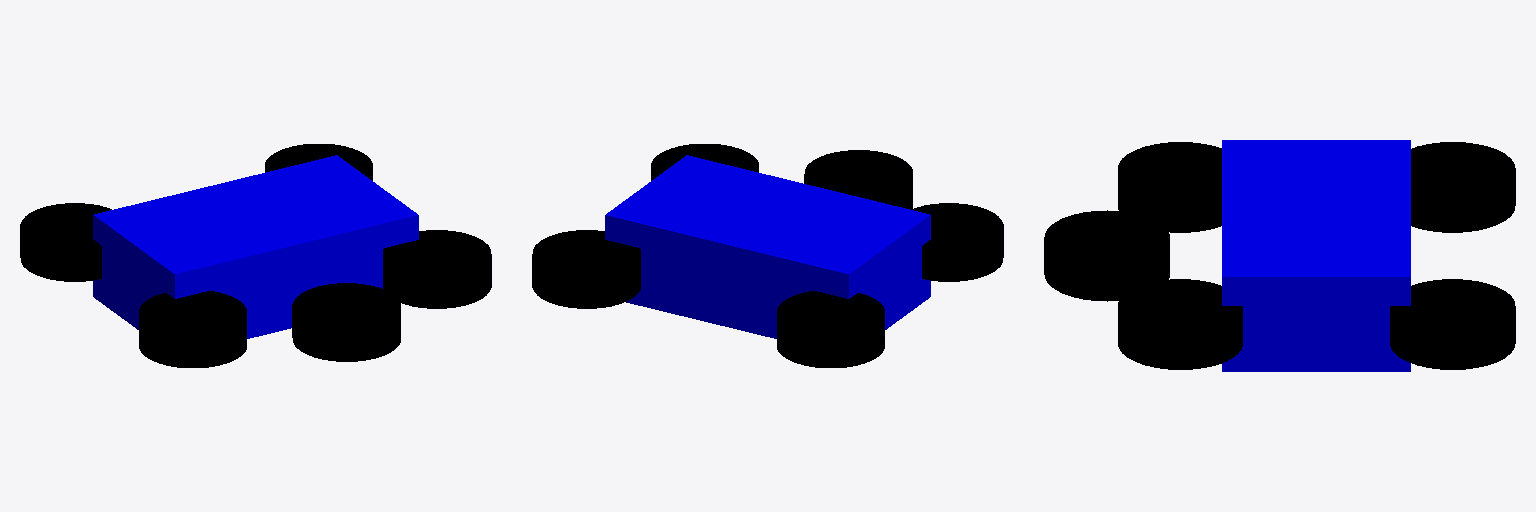
The robot description file, URDF, robot "omnibot":
<?xml version="1.0"?>

<robot name="omnibot" xmlns:xacro="http://www.ros.org/wiki/xacro">
 
  <link name="base_link">
    <visual>
      <origin xyz="0 0 0" rpy="0 0 0" />
      <geometry>
        <box size="0.31 0.18 0.10" />
      </geometry>
      <material name="blue">
        <color rgba="0.0 0.0 1.0 1.0"/>
      </material>
    </visual>
    <collision>
      <origin xyz="0 0 0" rpy="0 0 0" />
      <geometry>
        <box size="0.31 0.18 0.10" />
      </geometry>
    </collision>
    <inertial>
      <origin xyz="0 0 0" rpy="0 0 0" />
      <mass value="5.0"/>
      <inertia ixx="0.1" ixy="0.0" ixz="0.0" iyy="0.1" iyz="0.0" izz="0.1"/>
    </inertial>
  </link>

  <joint name="joint_front_left" type="continuous">
    <origin xyz="0.155 0.13 0" rpy="0 0 0"/>
    <parent link="base_link"/>
    <child link="wheel_front_left"/>
    <axis xyz="0 1 0"/>
  </joint>

  <link name="wheel_front_left">
    <visual>
      <origin xyz="0 0 0" rpy="0 0 0" />
      <geometry>
        <cylinder radius="0.06" length="0.04" />
      </geometry>
      <material name="black">
        <color rgba="0.0 0.0 0.0 1.0"/>
      </material>
    </visual>
    <collision>
      <origin xyz="0 0 0" rpy="0 0 0" />
      <geometry>
        <cylinder radius="0.06" length="0.04" />
      </geometry>
    </collision>
    <inertial>
      <origin xyz="0 0 0" rpy="0 0 0" />
      <mass value="0.5"/>
      <inertia ixx="0.0002" ixy="0.0" ixz="0.0" iyy="0.0002" iyz="0.0" izz="0.0002"/>
    </inertial>
  </link>

  <joint name="joint_front_right" type="continuous">
    <origin xyz="0.155 -0.13 0" rpy="0 0 0"/>
    <parent link="base_link"/>
    <child link="wheel_front_right"/>
    <axis xyz="0 1 0"/>
  </joint>

 <link name="wheel_front_right">
  <visual>
  <origin xyz="0 0 0" rpy="0 0 0" />
      <geometry>
        <cylinder radius="0.06" length="0.04" />
      </geometry>
      <material name="black">
        <color rgba="0.0 0.0 0.0 1.0"/>
      </material>
    </visual>
    <collision>
      <origin xyz="0 0 0" rpy="0 0 0" />
      <geometry>
        <cylinder radius="0.06" length="0.04" />
      </geometry>
    </collision>
    <inertial>
      <origin xyz="0 0 0" rpy="0 0 0" />
      <mass value="0.5"/>
      <inertia ixx="0.0002" ixy="0.0" ixz="0.0" iyy="0.0002" iyz="0.0" izz="0.0002"/>
    </inertial>
  </link>
  <joint name="joint_back_left" type="continuous">
    <origin xyz="-0.155 0.13 0" rpy="0 0 0"/>
    <parent link="base_link"/>
    <child link="wheel_back_left"/>
    <axis xyz="0 1 0"/>
  </joint>
  <link name="wheel_back_left">
    <visual>
      <origin xyz="0 0 0" rpy="0 0 0" />
      <geometry>
        <cylinder radius="0.06" length="0.04" />
      </geometry>
      <material name="black">
        <color rgba="0.0 0.0 0.0 1.0"/>
      </material>
    </visual>
    <collision>
      <origin xyz="0 0 0" rpy="0 0 0" />
      <geometry>
        <cylinder radius="0.06" length="0.04" />
      </geometry>
    </collision>
    <inertial>
      <origin xyz="0 0 0" rpy="0 0 0" />
      <mass value="0.5"/>
      <inertia ixx="0.0002" ixy="0.0" ixz="0.0" iyy="0.0002" iyz="0.0" izz="0.0002"/>
    </inertial>
  </link>
  <joint name="joint_back_right" type="continuous">
    <origin xyz="-0.155 -0.13 0" rpy="0 0 0"/>
    <parent link="base_link"/>
    <child link="wheel_back_right"/>
    <axis xyz="0 1 0"/>
  </joint>
    
  <link name="wheel_back_right">
    <visual>
      <origin xyz="0 0 0" rpy="0 0 0" />
      <geometry>
        <cylinder radius="0.06" length="0.04" />
      </geometry>
      <material name="black">
        <color rgba="0.0 0.0 0.0 1.0"/>
      </material>
    </visual>
    <collision>
      <origin xyz="0 0 0" rpy="0 0 0" />
      <geometry>
        <cylinder radius="0.06" length="0.04" />
      </geometry>
    </collision>
    <inertial>
      <origin xyz="0 0 0" rpy="0 0 0" />
      <mass value="0.5"/>
      <inertia ixx="0.0002" ixy="0.0" ixz="0.0" iyy="0.0002" iyz="0.0" izz="0.0002"/>
    </inertial>
  </link>
  
  
  
  <joint name="joint_rear" type="continuous">
    <origin xyz="0 -0.2 0" rpy="0 0 0"/>
    <parent link="base_link"/>
    <child link="wheel_rear"/>
    <axis xyz="0 1 0"/>
  </joint>
  <link name="wheel_rear">
    <visual>
      <origin xyz="0 0 0" rpy="0 0 0" />
      <geometry>
        <cylinder radius="0.06" length="0.04" />
      </geometry>
      <material name="black">
        <color rgba="0.0 0.0 0.0 1.0"/>
      </material>
    </visual>
    <collision>
      <origin xyz="0 0 0" rpy="0 0 0" />
      <geometry>
        <cylinder radius="0.06" length="0.04" />
      </geometry>
    </collision>
    <inertial>
      <origin xyz="0 0 0" rpy="0 0 0" />
      <mass value="0.5"/>
      <inertia ixx="0.0002" ixy="0.0" ixz="0.0" iyy="0.0002" iyz="0.0" izz="0.0002"/>
    </inertial>
  </link>
</robot>

--- Facts derived from the render (not from the file) ---
Views: 3 orthographic renders of the robot side by side, from view 1: azimuth 30°, elevation 25°; view 2: azimuth 150°, elevation 25°; view 3: azimuth 270°, elevation 25°.
Robot: omnibot — 6 links, 5 joints (5 continuous); root link base_link; default pose: every joint at zero.
Links seen in each view (by area): view 1: base_link, wheel_rear, wheel_back_right, wheel_front_right, wheel_back_left, wheel_front_left; view 2: base_link, wheel_back_left, wheel_front_left, wheel_back_right, wheel_rear, wheel_front_right; view 3: base_link, wheel_front_left, wheel_front_right, wheel_rear, wheel_back_left, wheel_back_right.
Link boxes in pixels (x1,y1,x2,y2): base_link: [93, 155, 418, 338]; wheel_rear: [292, 283, 400, 361]; wheel_back_right: [139, 291, 246, 367]; wheel_front_right: [383, 230, 491, 308]; wheel_back_left: [20, 203, 111, 281]; wheel_front_left: [265, 144, 372, 180]; base_link: [605, 155, 930, 338]; wheel_back_left: [777, 291, 884, 367]; wheel_front_left: [532, 230, 640, 308]; wheel_back_right: [912, 203, 1003, 281]; wheel_rear: [804, 150, 912, 209]; wheel_front_right: [651, 144, 758, 180]; base_link: [1222, 140, 1410, 371]; wheel_front_left: [1390, 279, 1515, 369]; wheel_front_right: [1118, 279, 1242, 369]; wheel_rear: [1044, 210, 1169, 301]; wheel_back_left: [1411, 142, 1515, 232]; wheel_back_right: [1118, 142, 1221, 232].
Bounding box of the posed robot: 0.43 × 0.45 × 0.1 m (x, y, z).
Geometry: primitives only (box / cylinder / sphere), no mesh files.